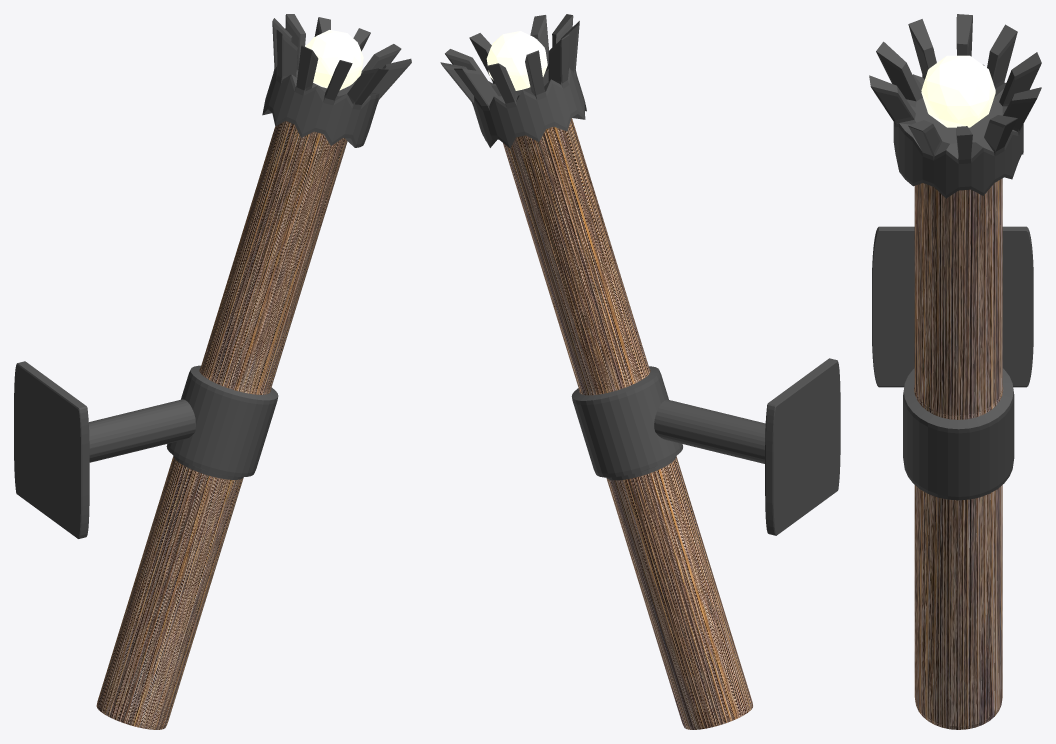
Rendered from torch.fbx.
3 views of the same model, side by side, from view 1: azimuth 30°, elevation 25°; view 2: azimuth 150°, elevation 25°; view 3: azimuth 270°, elevation 25° (orthographic). The views are drawn at different scales.
Parts seen in each view (by area): view 1: Cylinder; view 2: Cylinder; view 3: Cylinder.
Part boxes in pixels (x1=…): Cylinder: x1=14, y1=14, x2=411, y2=729; Cylinder: x1=440, y1=14, x2=840, y2=729; Cylinder: x1=869, y1=14, x2=1041, y2=729.
Bounding box in the file's own units: 127 × 225 × 44.71.
3 materials, 1 textured.
